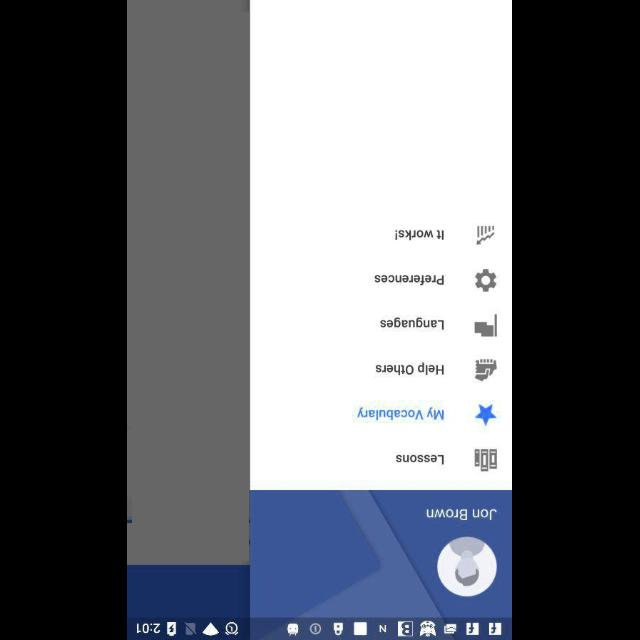icon: (437, 536, 498, 596), (474, 403, 498, 427), (475, 268, 497, 292), (476, 225, 496, 245)
image: (474, 313, 498, 337), (474, 358, 498, 382), (474, 447, 498, 471)
panel: (250, 0, 512, 618)
text: (358, 406, 444, 420), (376, 362, 444, 376), (427, 508, 498, 520), (375, 274, 445, 286), (380, 316, 444, 329), (396, 229, 444, 241), (396, 454, 444, 464)
uppertaskbar: (128, 617, 512, 639)
